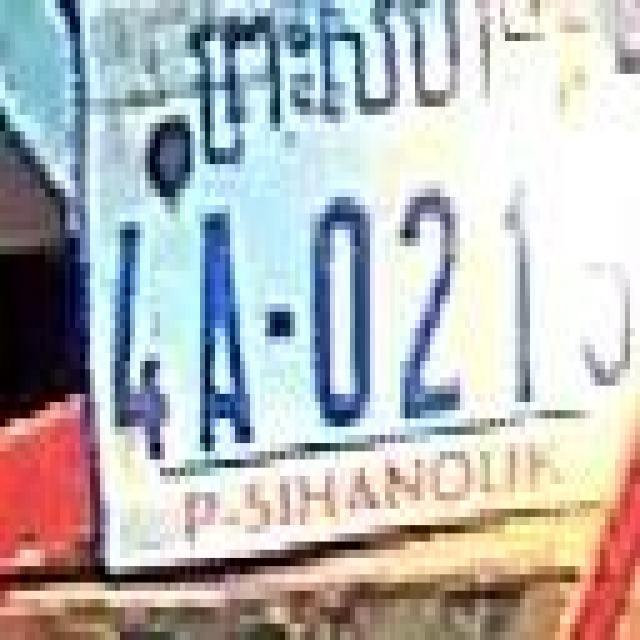Preah_Sihanouk: (190, 0, 544, 166)
